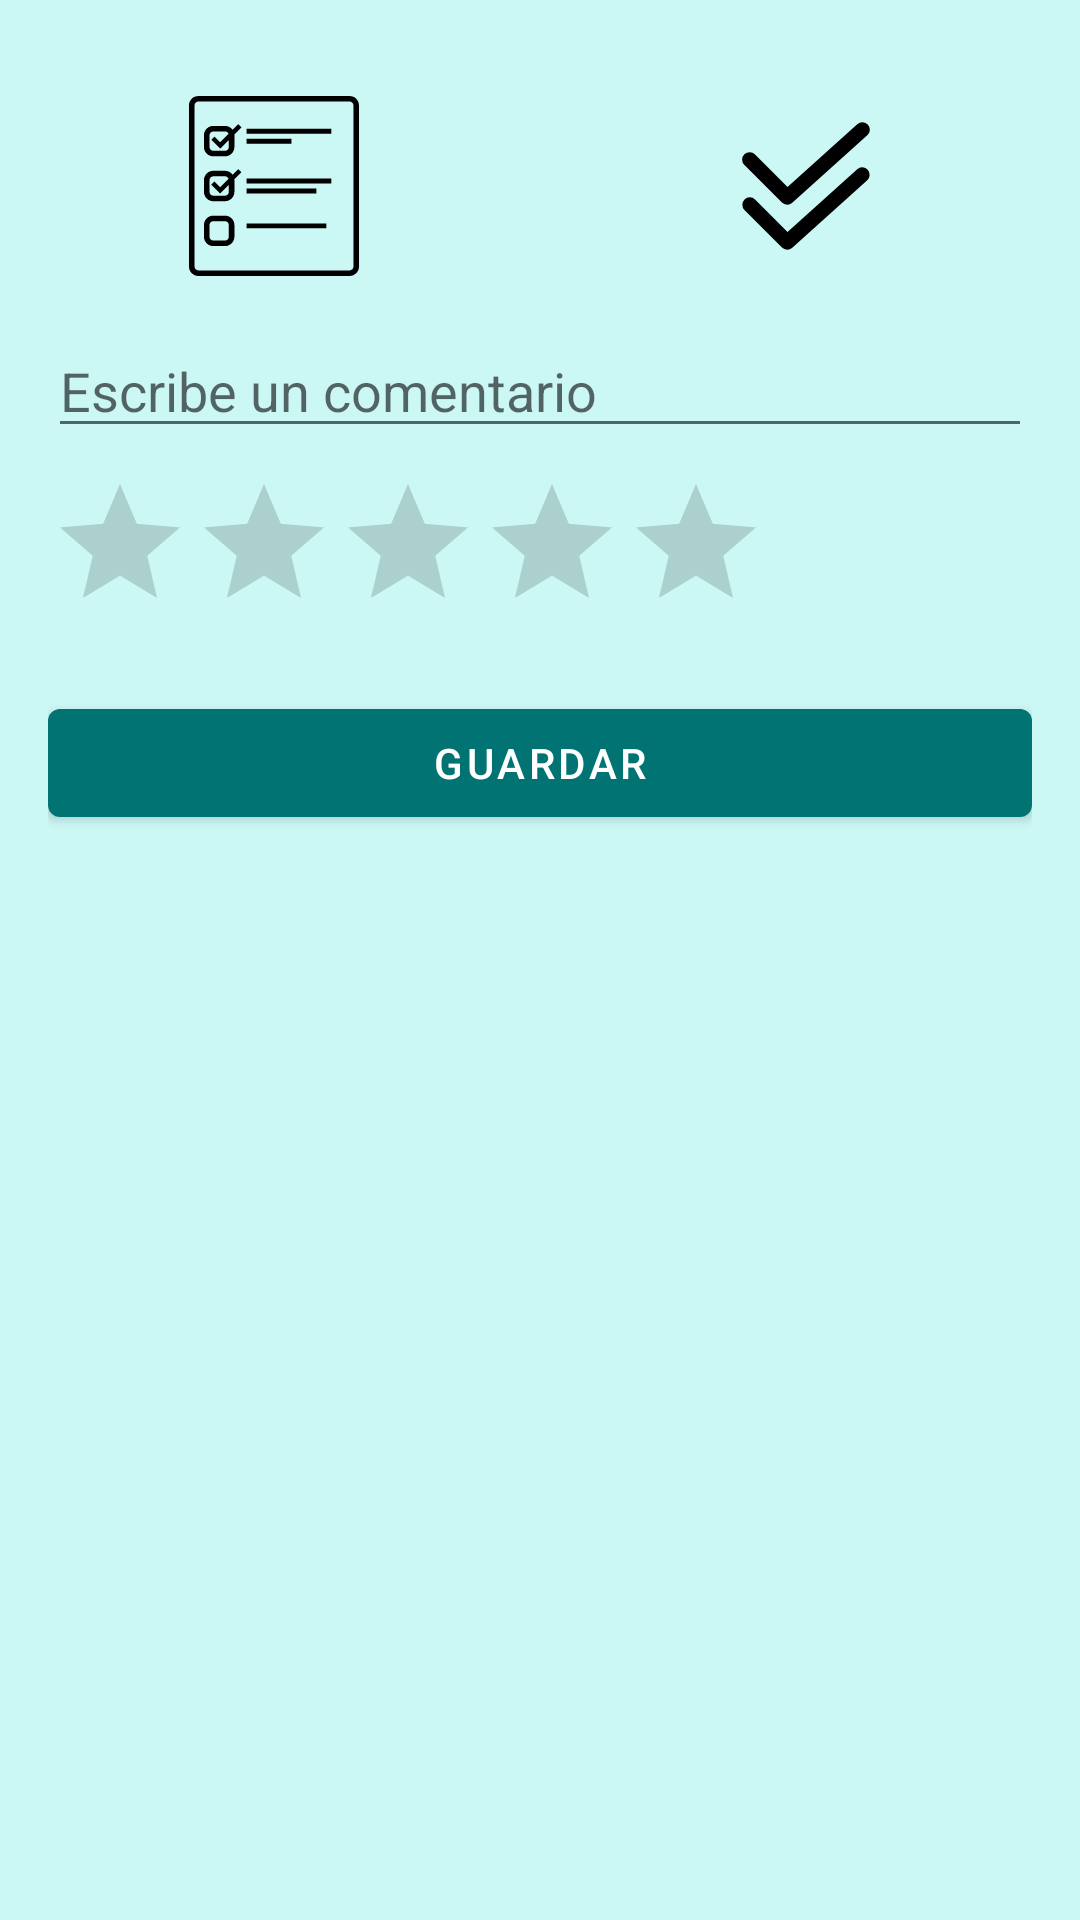

Icons on this 1080 × 1920 Android screen, each with its box as (x1, y1, x2, y2):
vistas: (742, 122, 870, 250)
watchlist: (189, 96, 359, 276)
